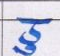u_matra: (15, 44, 39, 55)
